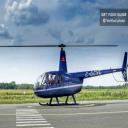helicopter: (2, 41, 128, 109)
